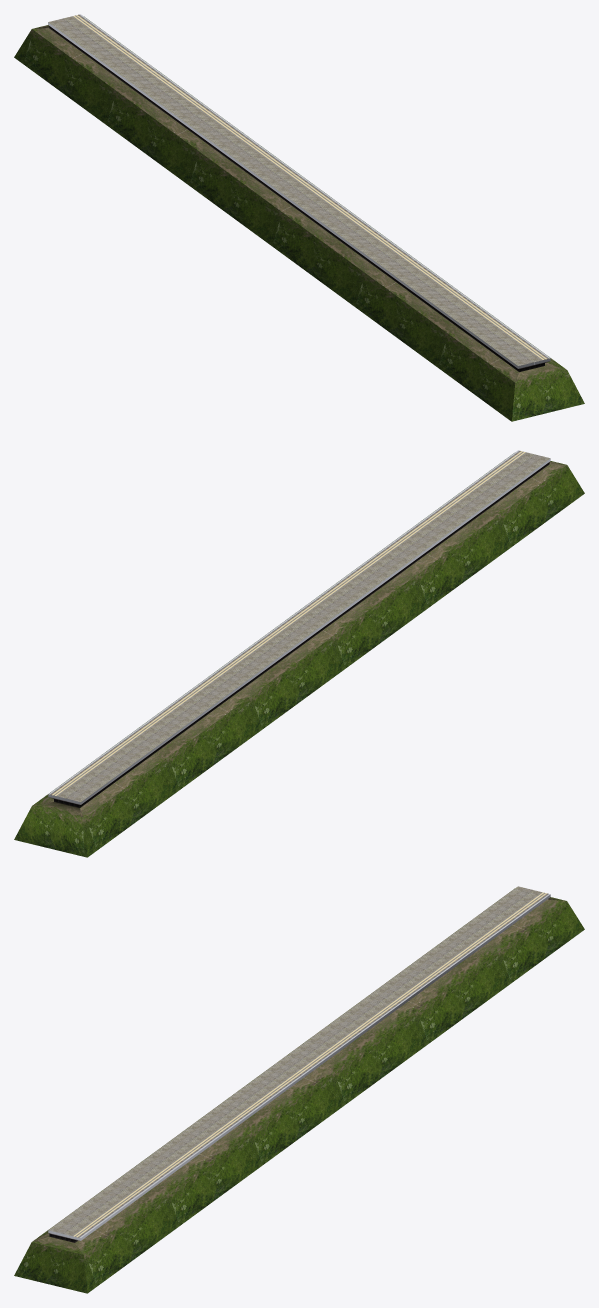
Rendered from platform_rus_l.gltf.
3 views of the same model, one above another, from view 1: azimuth 30°, elevation 25°; view 2: azimuth 150°, elevation 25°; view 3: azimuth 330°, elevation 25° (orthographic).
Bounding box in the file's own units: 9.01 × 4.75 × 106.
1 material, 1 textured.
